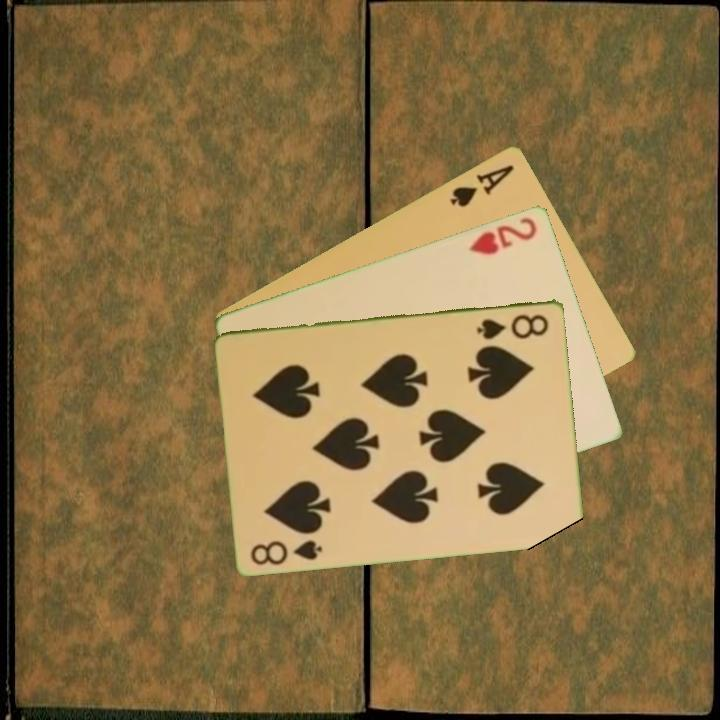2h: (466, 213, 540, 258)
8s: (247, 536, 326, 568), (474, 310, 552, 342)
As: (446, 160, 518, 210)
